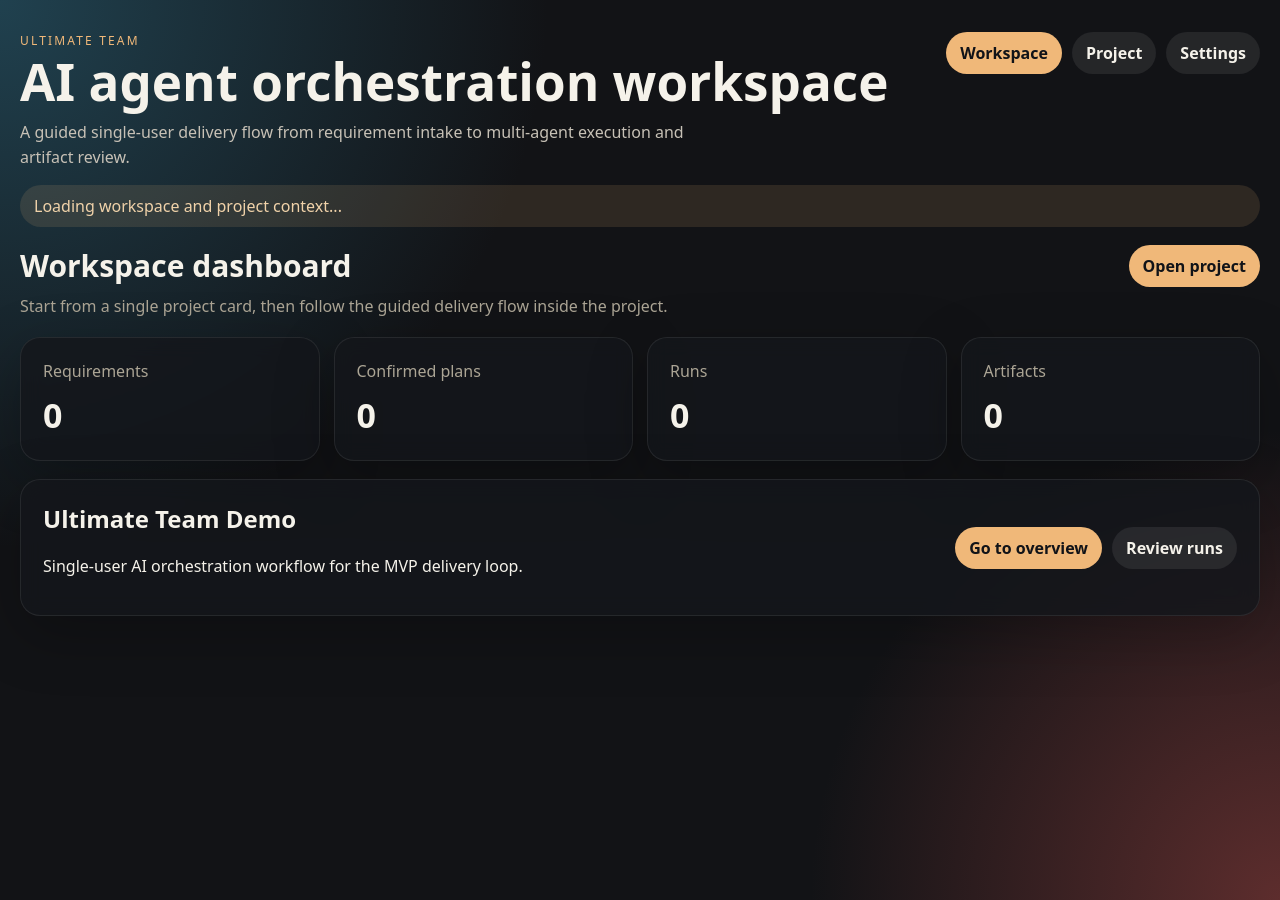
Test: App › renders the dashboard and navigates into the project flow
Check: the heading "Workspace dashboard" is shown, box [20, 245, 352, 286]
Step 1. Click the button "Open project" → (1194, 266), box [1128, 245, 1260, 287]
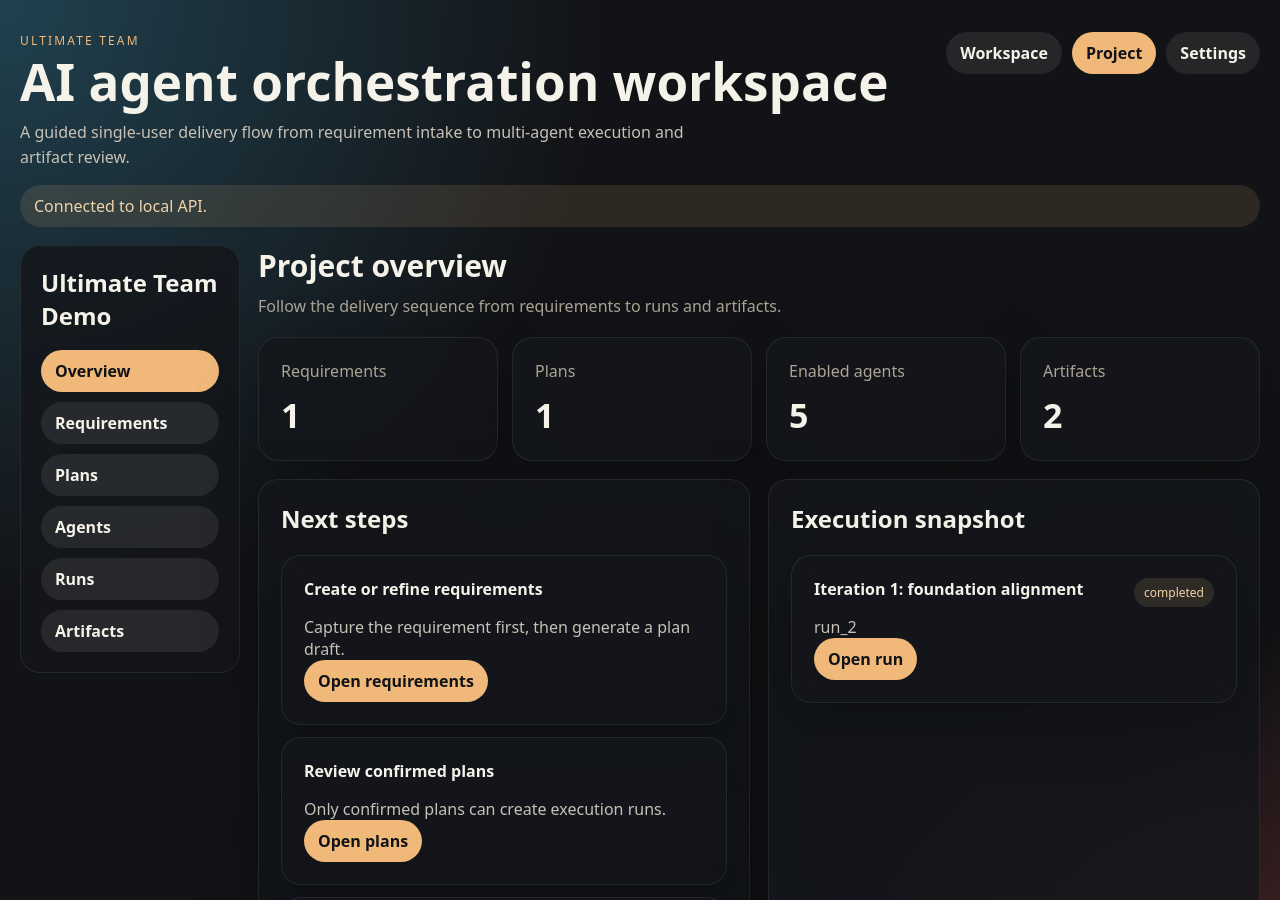
Check: the heading "Project overview" is shown, box [258, 245, 507, 286]
Step 2. Click the button "Requirements" → (130, 423), box [41, 402, 219, 444]
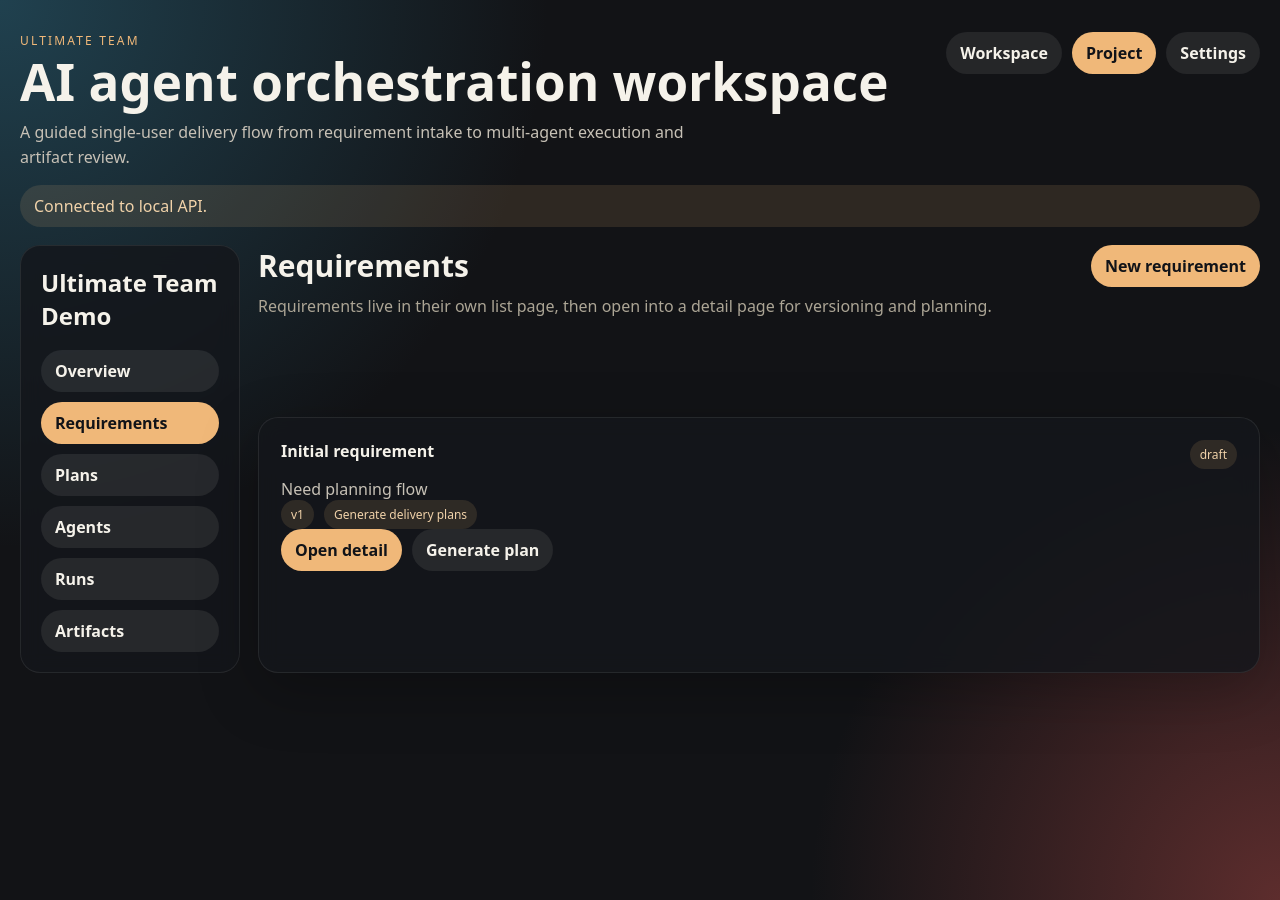
Check: the heading "Requirements" is shown, box [258, 245, 469, 286]
Check: the text "Initial requirement" is shown, box [281, 440, 434, 462]
